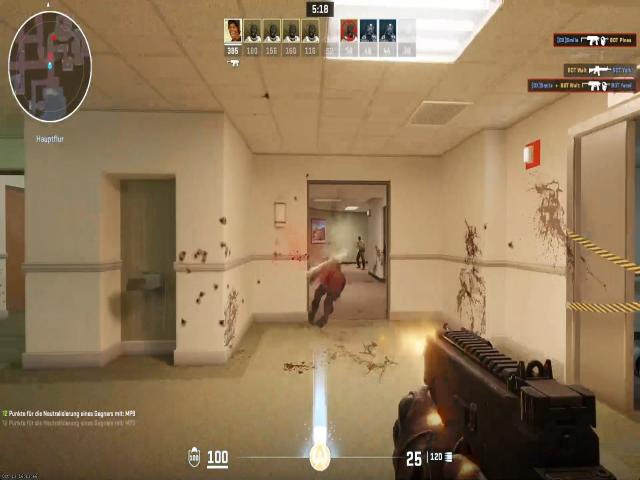Dead: (308, 258, 346, 326)
T: (355, 232, 367, 267)
T-Head: (358, 234, 363, 244)
